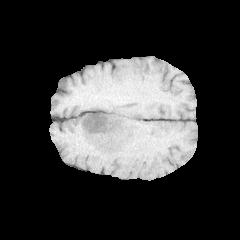glioma: (66, 102, 138, 155)
